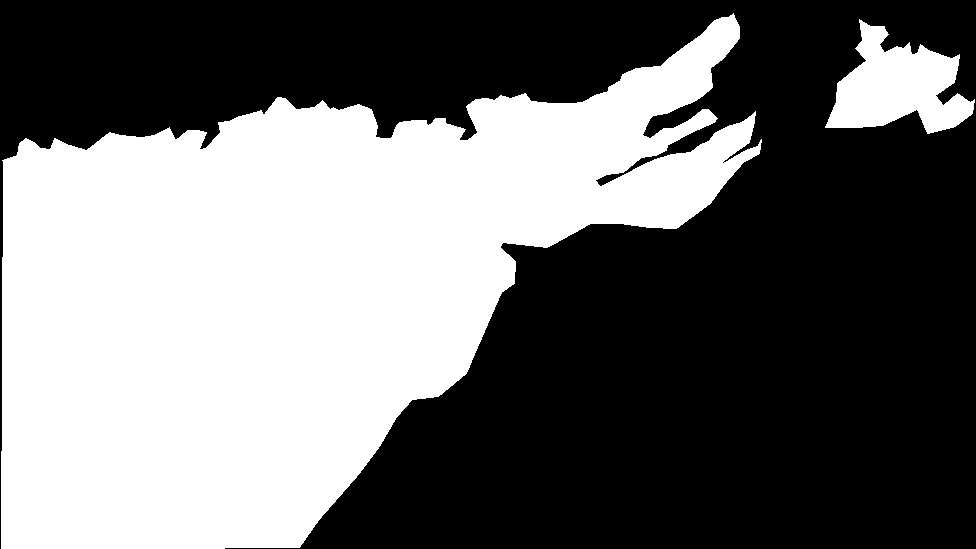Fire: (290, 9, 744, 395), (861, 24, 962, 96)
